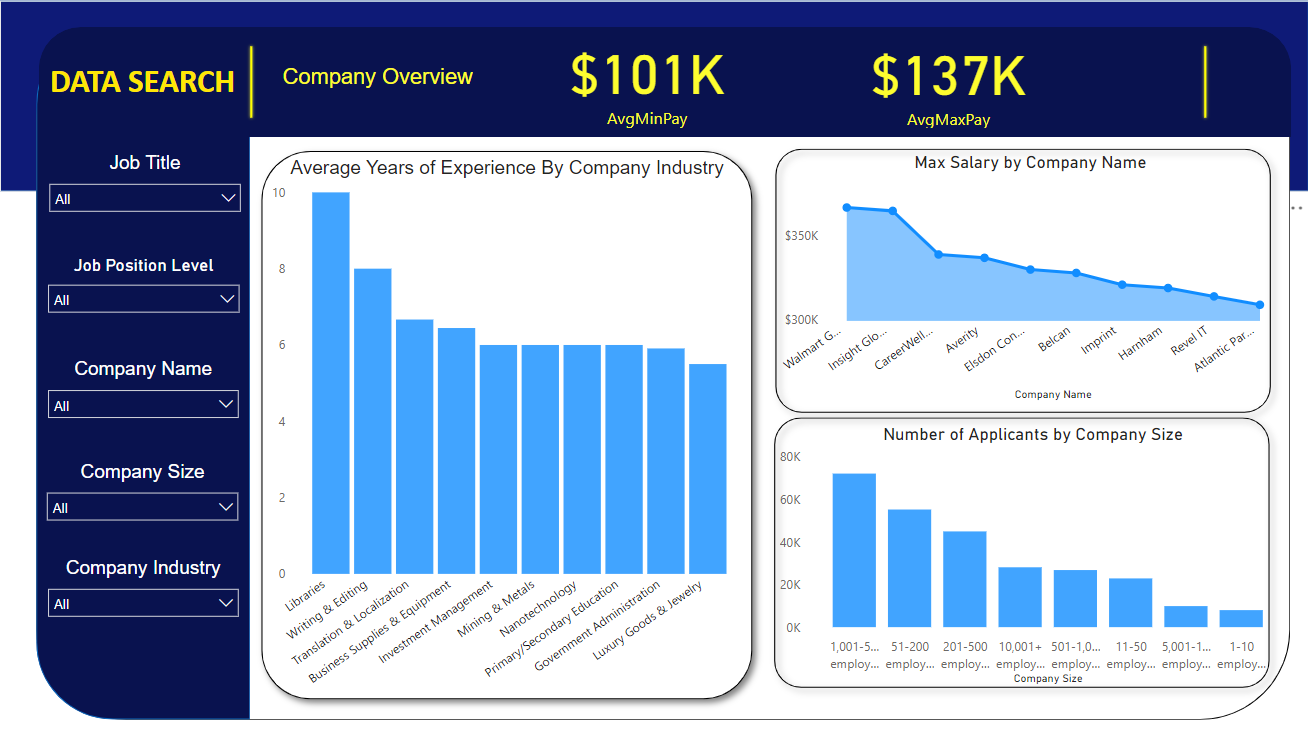

The dashboard page shown, as its layout file describes it:
{"tool":"powerbi","page":{"name":"Company Overview","canvas":[1280,720],"ordinal":0},"visuals":[{"type":"shape","box":[0,4.2,1280.3,186.7],"z":0},{"type":"shape","box":[35.7,28.8,1226.8,677.9],"z":1000},{"type":"shape","box":[35.5,29.3,209.1,677.4],"z":2000},{"type":"shape","box":[37.9,29.3,1225.3,107.6],"z":3000},{"type":"textbox","box":[35.1,57.6,207.8,53.3],"z":4000},{"type":"shape","box":[160,44.9,171.3,75.8],"z":5000},{"type":"slicer","title":"Company Name","fields":{"Values":["job_postings.Company Name"]},"box":[36.7,353.4,206.7,74.6],"z":6000},{"type":"slicer","title":"Job Title","fields":{"Values":["job_postings.Job Title"]},"box":[37.9,151.6,207.9,77],"z":7000},{"type":"slicer","title":"Job Position Level","fields":{"Values":["job_postings.Job Position Level"]},"box":[36.7,251.9,207.9,74.6],"z":8000},{"type":"slicer","title":"Company Size","fields":{"Values":["job_postings.Company Size"]},"box":[35.5,453.7,207.9,73.4],"z":9000},{"type":"slicer","title":"Company Industry","fields":{"Values":["job_postings.Company Industry"]},"box":[36.7,547.8,206.7,75.8],"z":10000},{"type":"shape","box":[244.6,139.4,502.6,558.8],"z":11000},{"type":"shape","box":[1076.7,44.9,203.6,75.8],"z":12000},{"type":"clusteredColumnChart","title":"Average Years of Experience By Company Industry","fields":{"Category":["job_postings.Company Industry"],"Y":["job_postings.Avg Experience"]},"box":[259.3,156.4,473.4,542],"z":13000},{"type":"shape","box":[747.2,137,507.5,281.3],"z":14000},{"type":"shape","box":[745.9,399.9,507.5,287.4],"z":15000},{"type":"areaChart","fields":{"Category":["job_postings.Company Name"],"Y":["job_postings.Max Salary"]},"box":[760.1,152,495.1,248.2],"z":16000},{"type":"lineStackedColumnComboChart","title":"Number of Applicants by Company Size","fields":{"Category":["job_postings.Company Size"],"Y":["Sum(job_postings.Number of Applicants)"]},"box":[758.2,417,505,260.5],"z":17000},{"type":"textbox","box":[271.5,61.1,209.1,36.7],"z":18000},{"type":"card","fields":{"Values":["job_postings.AvgMinPay"]},"box":[534.4,24.5,198.1,111.3],"z":19000},{"type":"card","fields":{"Values":["job_postings.AvgMaxPay"]},"box":[836.4,28.1,183.4,105.2],"z":20000}]}

Visuals, with their boxes in screenshot pixels (x1, y1, x2, y2), scaled from the page's 1280x720 canvas onto the 1308x731 screenshot:
shape: <bbox>0, 4, 1307, 194</bbox>
shape: <bbox>36, 29, 1290, 717</bbox>
shape: <bbox>36, 30, 250, 717</bbox>
shape: <bbox>39, 30, 1291, 139</bbox>
textbox: <bbox>36, 58, 248, 113</bbox>
shape: <bbox>164, 46, 339, 123</bbox>
"Company Name" slicer: <bbox>38, 359, 249, 435</bbox>
"Job Title" slicer: <bbox>39, 154, 251, 232</bbox>
"Job Position Level" slicer: <bbox>38, 256, 250, 331</bbox>
"Company Size" slicer: <bbox>36, 461, 249, 535</bbox>
"Company Industry" slicer: <bbox>38, 556, 249, 633</bbox>
shape: <bbox>250, 142, 764, 709</bbox>
shape: <bbox>1100, 46, 1307, 123</bbox>
"Average Years of Experience By Company Industry" clusteredColumnChart: <bbox>265, 159, 749, 709</bbox>
shape: <bbox>764, 139, 1282, 425</bbox>
shape: <bbox>762, 406, 1281, 698</bbox>
areaChart - job_postings.Company Name x job_postings.Max Salary: <bbox>777, 154, 1283, 406</bbox>
"Number of Applicants by Company Size" lineStackedColumnComboChart: <bbox>775, 423, 1291, 688</bbox>
textbox: <bbox>277, 62, 491, 99</bbox>
card - job_postings.AvgMinPay: <bbox>546, 25, 749, 138</bbox>
card - job_postings.AvgMaxPay: <bbox>855, 29, 1042, 135</bbox>
